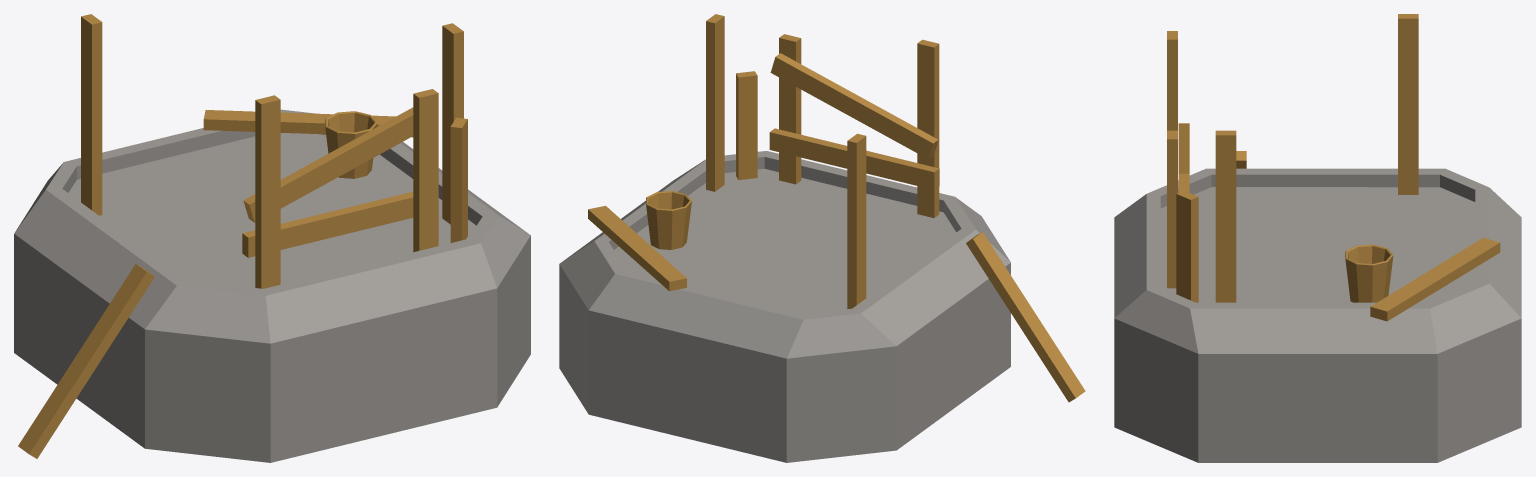
Rendered from PlaceTower.fbx.
The picture shows the model from 3 angles, left to right: view 1: azimuth 30°, elevation 25°; view 2: azimuth 150°, elevation 25°; view 3: azimuth 270°, elevation 25°; orthographic projection. The views are drawn at different scales.
Visible parts, largest first — view 1: Tower; view 2: Tower; view 3: Tower.
Boxes of the visible parts, <box> form: Tower: <box>14,14,530,462</box>; Tower: <box>559,14,1085,462</box>; Tower: <box>1114,14,1521,462</box>.
Size of the model in its own units: 353 by 231 by 280.
